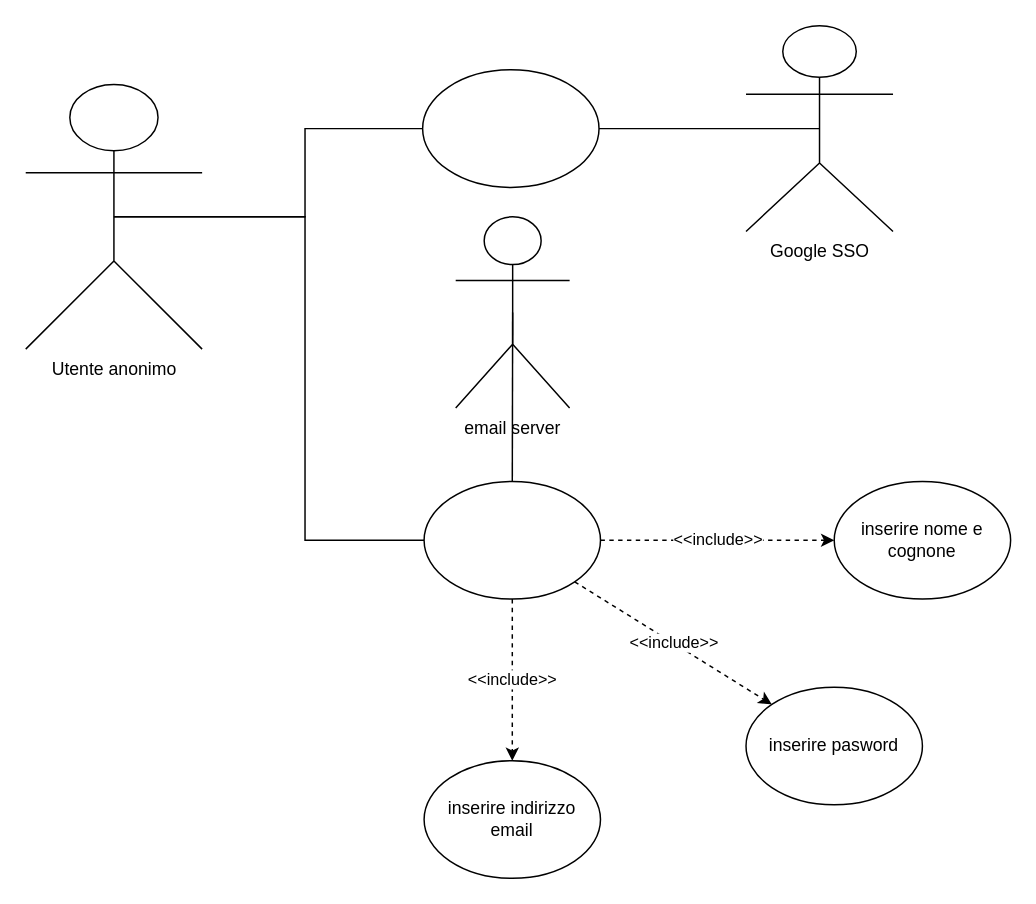
Some shapes in this 1036 by 904 pixel diagram are drawn without their labels. Each missing label, with the centre of its shape:
"fare login" goes at point 510,127.
"registrare nuovo utente" goes at point 511,539.
